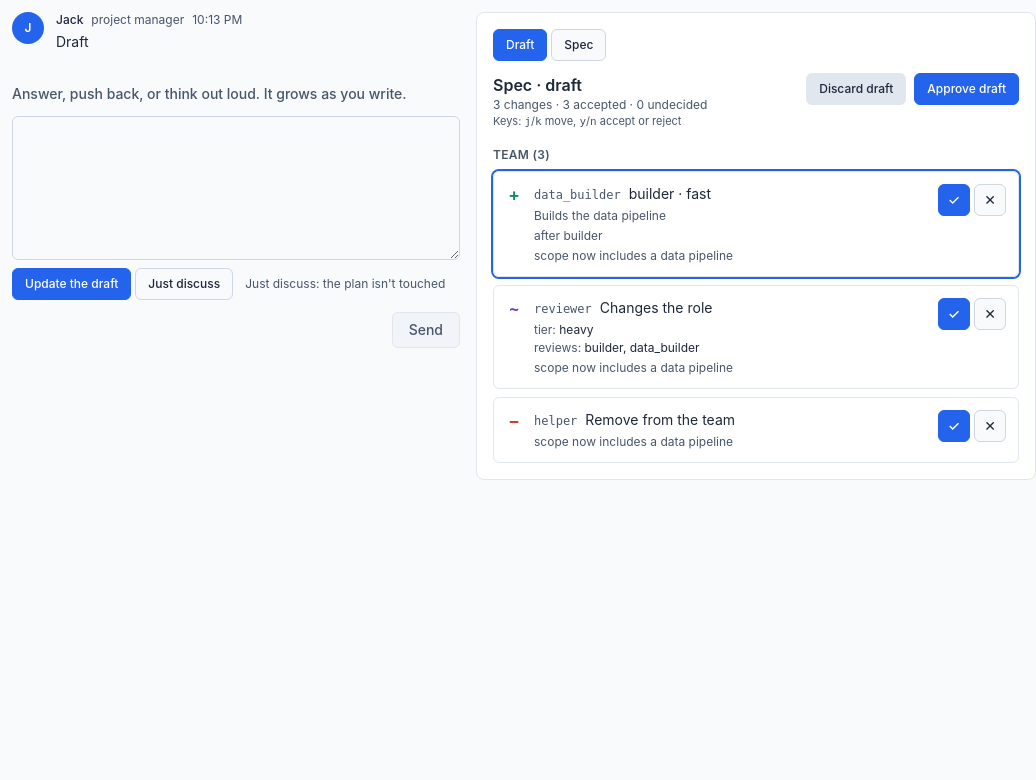
Test: PlanTab team changes › approves with team changes, invalidates the project and tells the Studio
Click the button "Approve draft": [967, 89] box [914,73,1019,105]
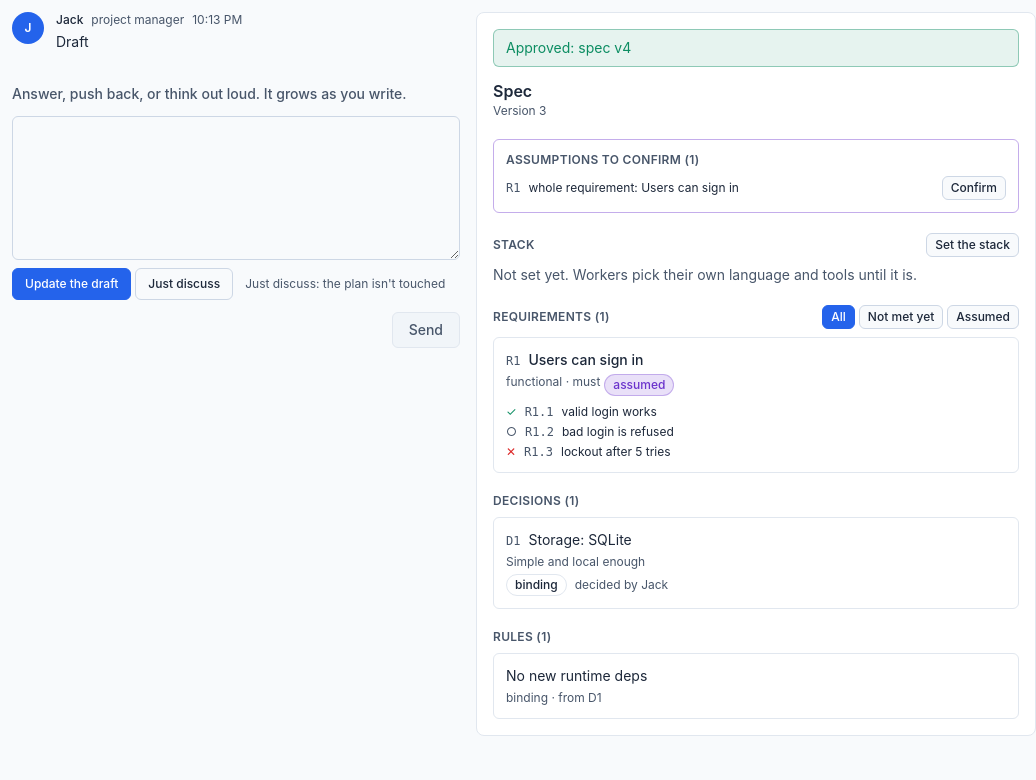
Expected: the text "Approved: spec v4" is shown, [493,29,1019,67]
